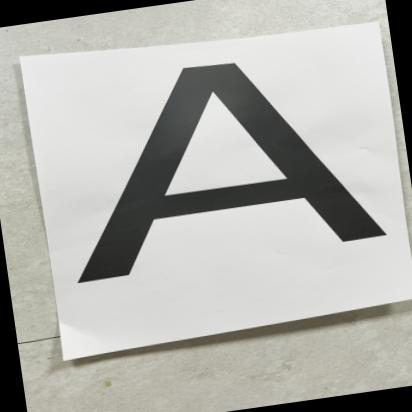seat: (38, 31, 399, 298)
